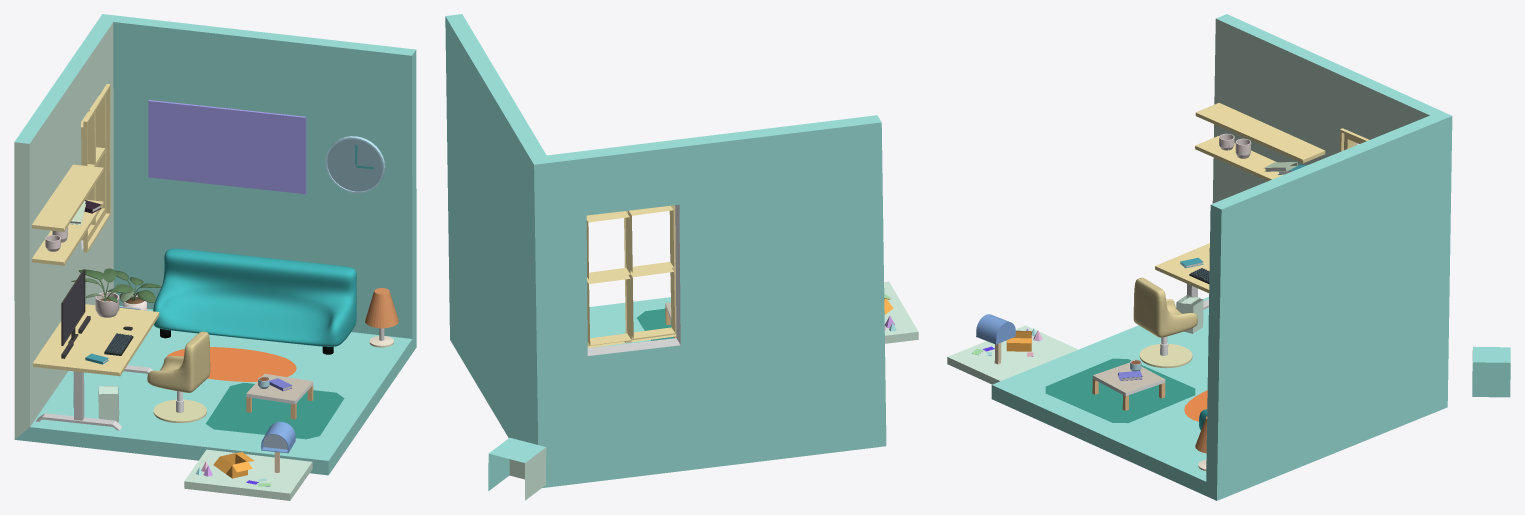
The model's file is finalroomV3.glb.
3 renders of one model, left to right at view 1: azimuth 30°, elevation 25°; view 2: azimuth 150°, elevation 25°; view 3: azimuth 270°, elevation 25°, orthographic. The views are drawn at different scales.
Visible parts, largest first — view 1: body, sofa, selves, flooritems, Desks, minifloor, clock, chair, tabletops, Computer, mailbox, mailbox.001; view 2: body, Cube, minifloor, flooritems; view 3: body, flooritems, selves, minifloor, chair, sofa, Cube, Desks, mailbox, mailbox.001.
Part boxes in pixels (x1,y1,x2,y2): body: [14, 14, 416, 475]; sofa: [107, 248, 398, 419]; selves: [32, 100, 306, 265]; flooritems: [98, 347, 344, 439]; Desks: [33, 304, 159, 430]; minifloor: [184, 449, 312, 500]; clock: [325, 136, 385, 193]; chair: [147, 331, 210, 392]; tabletops: [61, 268, 133, 364]; Computer: [61, 269, 85, 345]; mailbox: [261, 421, 295, 472]; mailbox.001: [213, 452, 271, 486]; body: [445, 14, 886, 487]; Cube: [488, 437, 546, 500]; minifloor: [884, 281, 918, 343]; flooritems: [637, 308, 673, 340]; body: [991, 14, 1452, 500]; flooritems: [1045, 295, 1207, 423]; selves: [1195, 103, 1325, 180]; minifloor: [947, 325, 1077, 384]; chair: [1133, 277, 1197, 337]; sofa: [1092, 359, 1207, 470]; Cube: [1472, 346, 1510, 397]; Desks: [1155, 243, 1209, 309]; mailbox: [976, 314, 1015, 364]; mailbox.001: [971, 330, 1033, 356].
Size of the model in its own units: 10.64 by 7.6 by 13.08.
